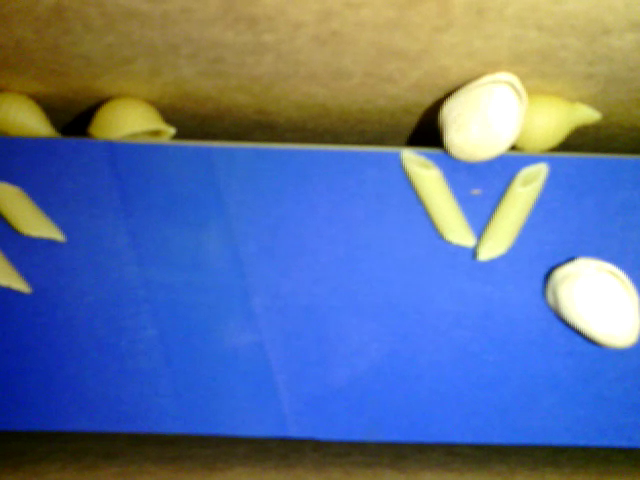penne: (399, 147, 480, 248), (473, 161, 549, 263), (1, 180, 69, 239), (1, 251, 37, 292)
shell: (511, 89, 603, 152), (80, 98, 180, 139), (1, 85, 65, 137)
